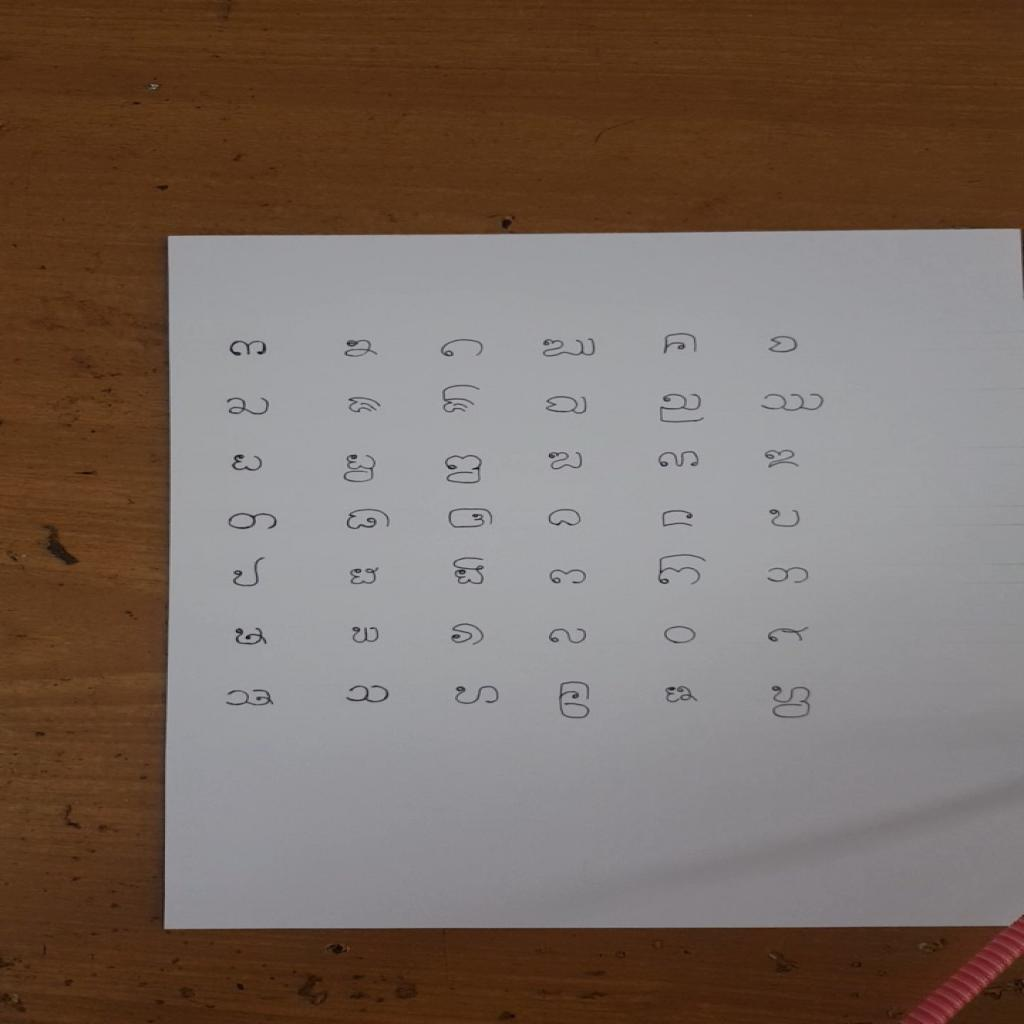LN001: (224, 338, 274, 360)
LN002: (340, 337, 385, 361)
LN003: (438, 337, 488, 360)
LN004: (536, 336, 603, 360)
LN005: (659, 332, 705, 359)
LN006: (765, 334, 804, 356)
LN007: (223, 396, 275, 419)
LN008: (344, 394, 386, 416)
LN009: (439, 383, 486, 416)
LN010: (542, 394, 593, 418)
LN011: (656, 392, 711, 427)
LN012: (757, 391, 831, 415)
LN013: (227, 452, 269, 475)
LN014: (340, 453, 381, 486)
LN015: (442, 453, 487, 487)
LN016: (545, 450, 589, 474)
LN017: (652, 450, 707, 471)
LN018: (760, 448, 806, 472)
LN019: (224, 510, 283, 534)
LN020: (341, 508, 398, 534)
LN021: (443, 506, 500, 532)
LN022: (544, 508, 587, 530)
LN023: (658, 508, 700, 531)
LN024: (767, 507, 807, 531)
LN025: (228, 555, 269, 591)
LN026: (345, 565, 384, 589)
LN027: (450, 555, 489, 589)
LN028: (546, 569, 591, 588)
LN029: (655, 553, 711, 589)
LN030: (764, 565, 814, 587)
LN031: (230, 626, 273, 649)
LN032: (349, 625, 385, 646)
LN033: (448, 621, 490, 649)
LN034: (545, 626, 593, 647)
LN035: (661, 625, 703, 648)
LN036: (764, 625, 815, 645)
LN037: (222, 687, 281, 710)
LN038: (341, 682, 397, 707)
LN039: (452, 685, 507, 709)
LN040: (554, 680, 596, 722)
LN041: (660, 684, 704, 707)
LN042: (768, 684, 816, 721)
